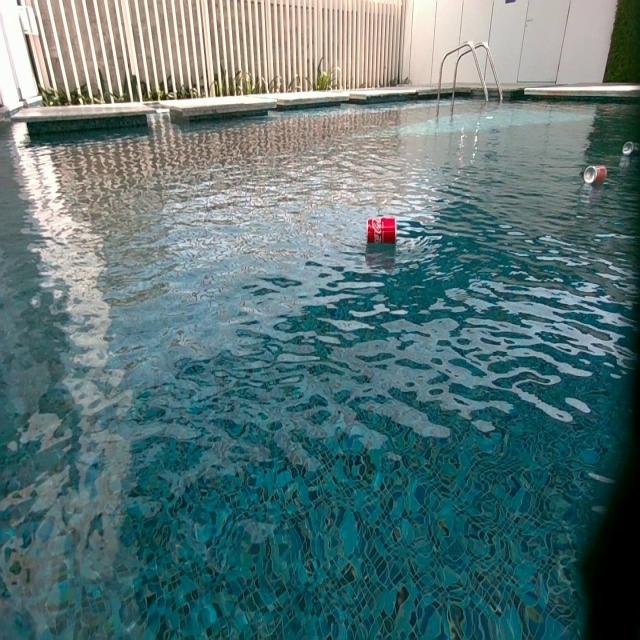Cans: (368, 218, 397, 245), (584, 165, 608, 188), (620, 142, 638, 158)
